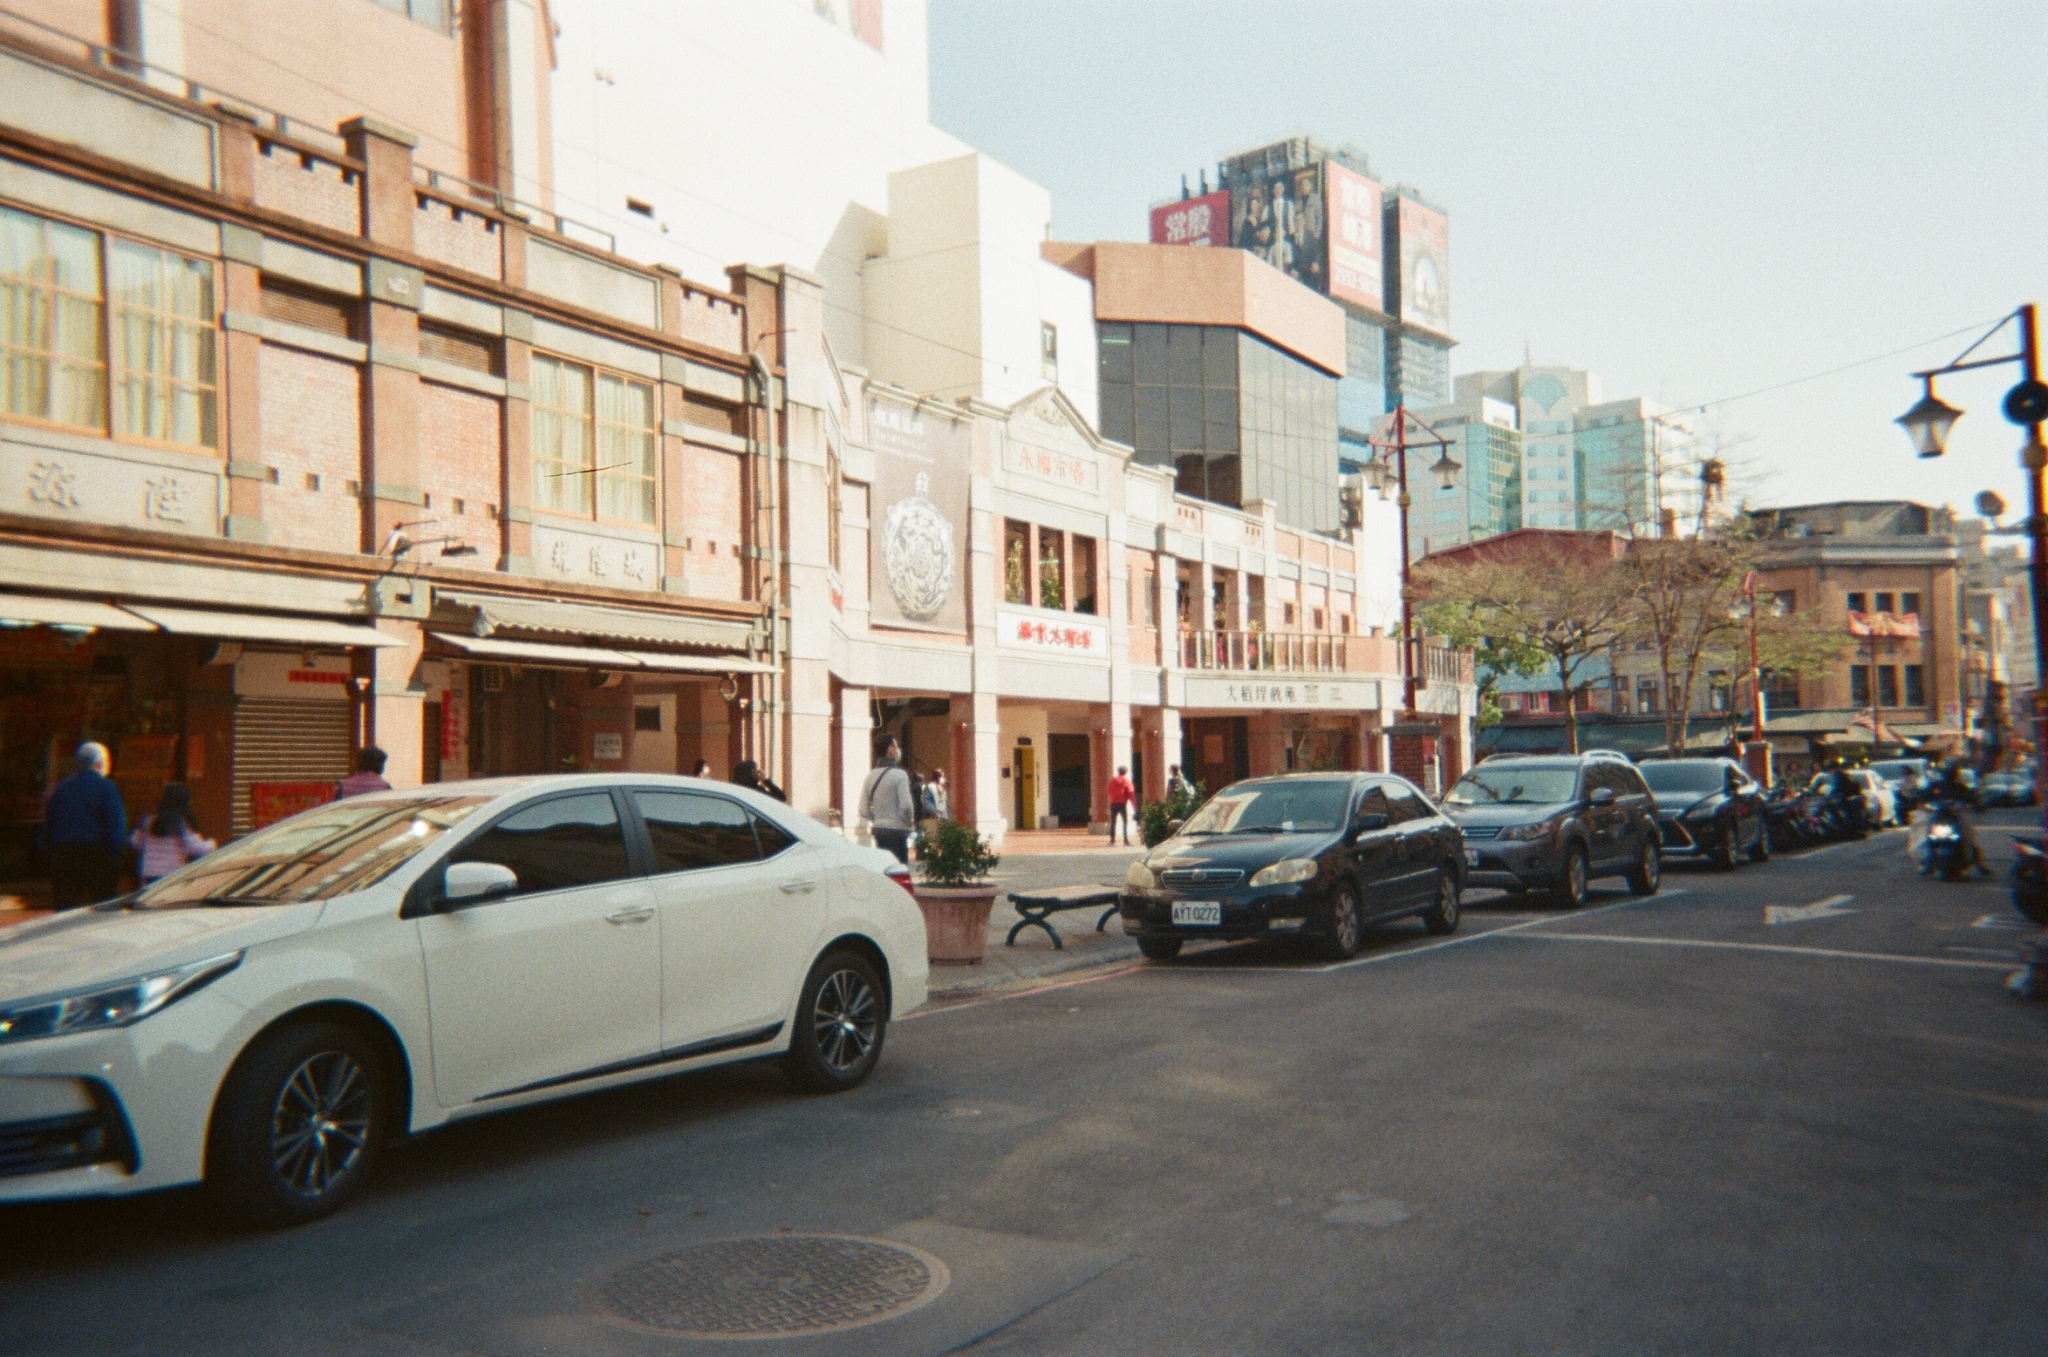people: (37, 738, 137, 888), (122, 791, 219, 885), (1919, 762, 1990, 879), (863, 744, 913, 850), (1096, 762, 1143, 841), (343, 741, 402, 797), (1163, 759, 1193, 818), (916, 762, 949, 815)
